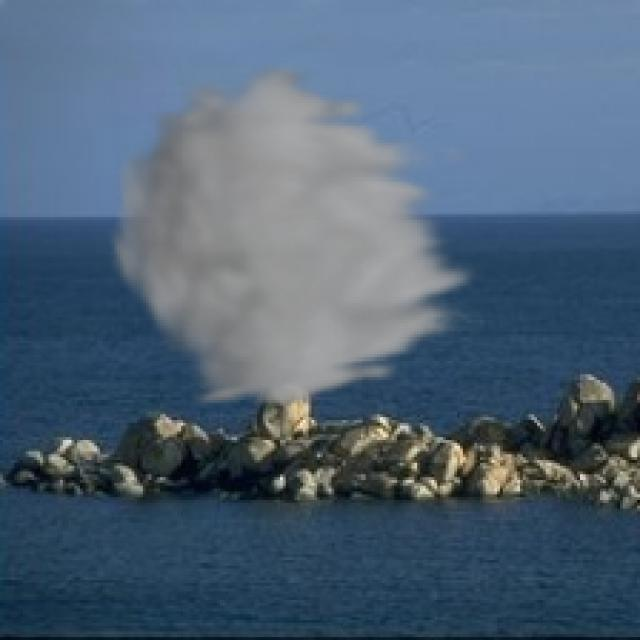Smoke: (102, 59, 488, 412)
